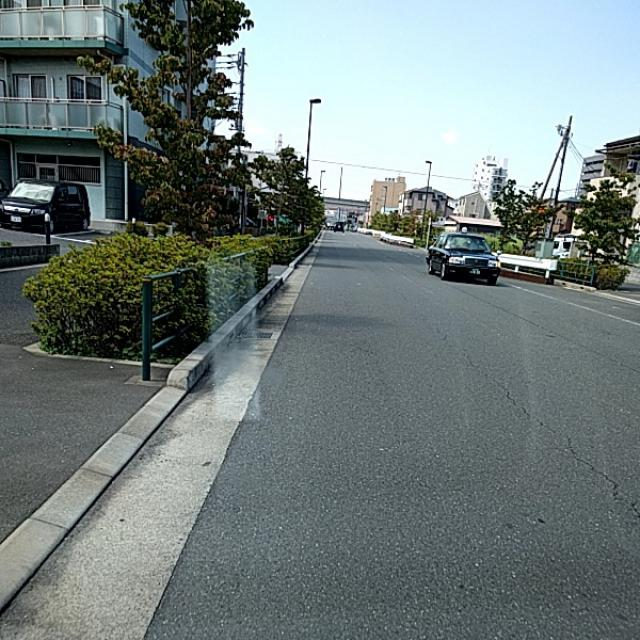pothole: (536, 414, 630, 497)
